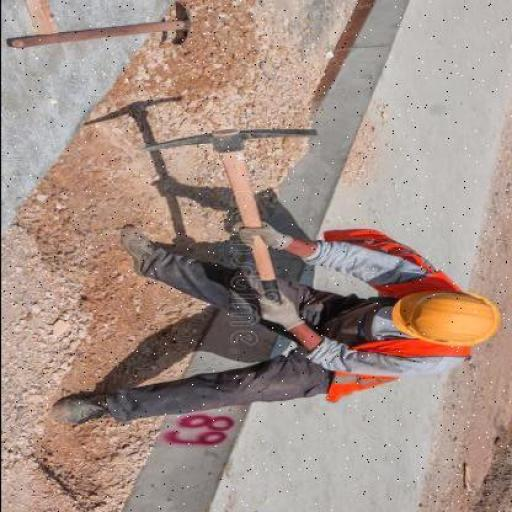person: (49, 195, 497, 434)
safety_shoe: (121, 223, 161, 280), (50, 395, 112, 427)
